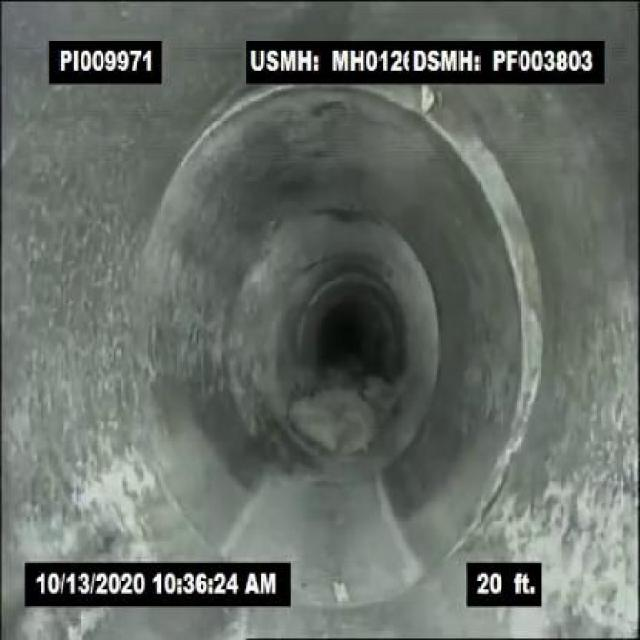Joint offset: (456, 98, 552, 504)
